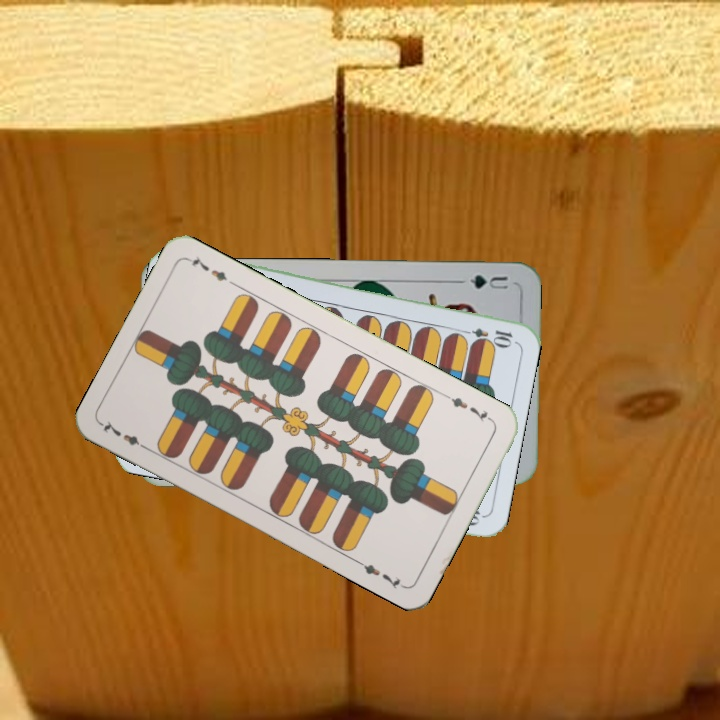E10: (456, 323, 515, 347)
E7: (97, 416, 152, 453), (441, 390, 496, 425)
GU: (466, 271, 511, 292)
